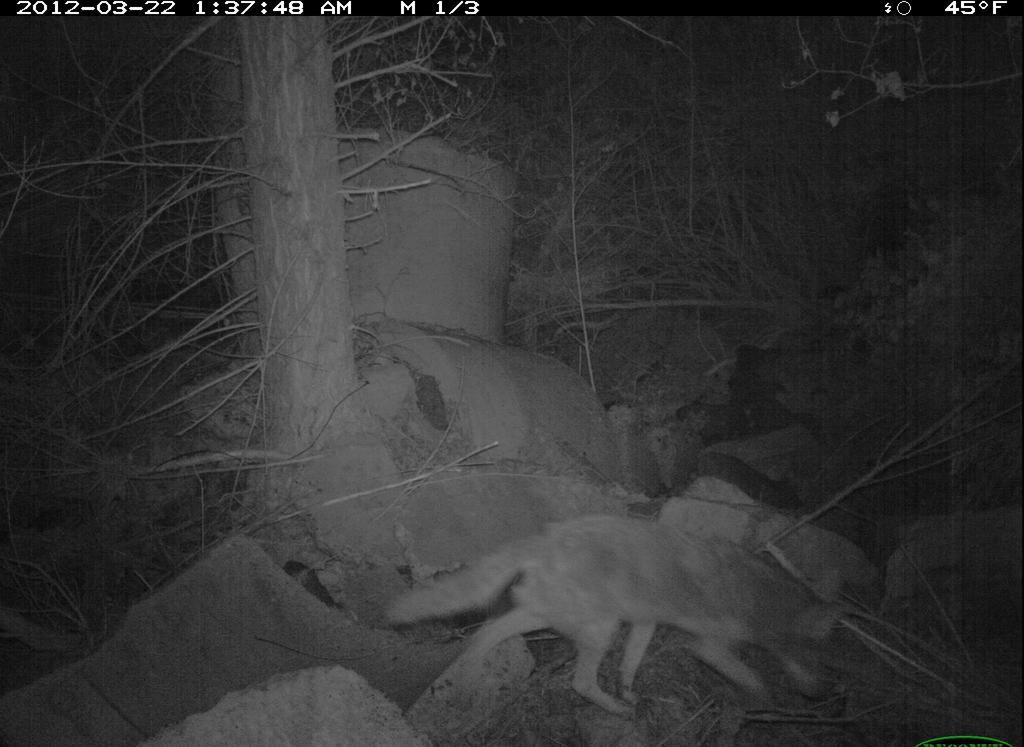coyote: (391, 509, 849, 726)
